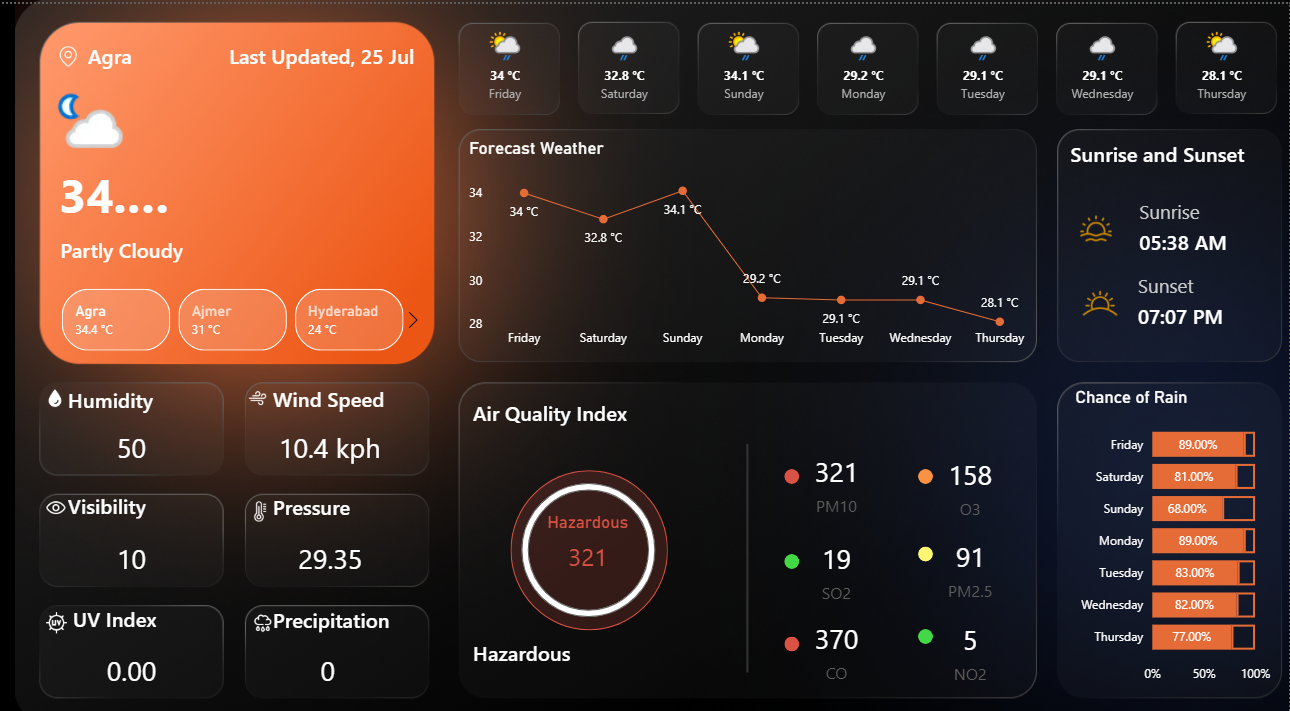

Layout of this report page (visuals, bound fields, positions):
{"tool":"powerbi","page":{"name":"Page 1","canvas":[1280,720],"ordinal":0},"visuals":[{"type":"shape","box":[511.1,460.5,155.6,158],"z":0},{"type":"lineChart","fields":{"Category":["Location.location.name"]},"box":[6.1,277.6,418.2,81.9],"z":1000},{"type":"shape","box":[65.4,150.6,134.6,74.1],"z":2000},{"type":"shape","box":[66.7,216,298.8,51.9],"z":3000},{"type":"shape","box":[93.8,25.9,211.1,50.6],"z":4000},{"type":"shape","box":[207.4,25.9,208.6,50.6],"z":5000},{"type":"image","box":[53.1,37,42,29.6],"z":6000},{"type":"cardVisual","fields":{"Data":["Min(Current.current.condition.icon)"]},"box":[34.6,66.7,112.3,95.1],"z":7000},{"type":"image","box":[33.3,481.5,58,32.1],"z":8000},{"type":"shape","box":[79,593.8,92.6,27.2],"z":9000},{"type":"shape","box":[276.5,376.5,112.3,27.2],"z":10000},{"type":"shape","box":[276.5,595.1,127.2,25.9],"z":11000},{"type":"shape","box":[74.1,377.8,86.4,27.2],"z":12000},{"type":"shape","box":[276.5,477.8,108.6,38.3],"z":13000},{"type":"shape","box":[74.1,480.2,106.2,29.6],"z":14000},{"type":"image","box":[248.1,596.3,37,30.9],"z":15000},{"type":"image","box":[39.5,595.1,45.7,32.1],"z":16000},{"type":"image","box":[237,486.4,54.3,29.6],"z":17000},{"type":"image","box":[245.7,375.3,30.9,28.4],"z":18000},{"type":"image","box":[43.2,375.3,35.8,28.4],"z":19000},{"type":"card","fields":{"Values":["Sum(Current.current.humidity)"]},"box":[85.2,419.8,103.7,39.5],"z":20000},{"type":"card","fields":{"Values":["_Measures.Wind_Speed"]},"box":[276.5,419.8,112.3,39.5],"z":21000},{"type":"card","fields":{"Values":["Sum(Current.current.vis_km)"]},"box":[85.2,528.4,103.7,40.7],"z":22000},{"type":"card","fields":{"Values":["Sum(Current.current.pressure_in)"]},"box":[281.5,528.4,103.7,40.7],"z":23000},{"type":"card","fields":{"Values":["Sum(Current.current.uv)"]},"box":[85.2,639.5,103.7,40.7],"z":24000},{"type":"card","fields":{"Values":["Sum(Current.current.precip_in)"]},"box":[279,639.5,103.7,40.7],"z":25000},{"type":"advancedSlicerVisual","fields":{"Values":["Location.location.name"]},"box":[43.2,276.5,387.7,71.6],"z":26000},{"type":"advancedSlicerVisual","fields":{"Values":["Forecast_Day.Day_Name"]},"box":[445.7,16,834.6,98.8],"z":27000},{"type":"lineChart","title":"Forecast Weather","fields":{"Y":["Sum(Forecast_Day.forecast.forecastday.day.avgtemp_c)"],"Category":["Forecast_Day.Day_Name"]},"box":[465.4,132.1,565.4,216],"z":28000},{"type":"shape","box":[1064.2,134.6,176.5,27.2],"z":29000},{"type":"shape","box":[1132.1,180.2,134.6,48.1],"z":30000},{"type":"shape","box":[1130.9,253.1,134.6,48.1],"z":31000},{"type":"shape","box":[1132.1,216,134.6,37],"z":32000},{"type":"shape","box":[1130.9,288.9,134.6,38.3],"z":33000},{"type":"image","box":[1064.2,267.9,58,55.6],"z":34000},{"type":"image","box":[1064.2,201.2,50.6,40.7],"z":35000},{"type":"hundredPercentStackedBarChart","title":"Chance of Rain","fields":{"Y":["Sum(Forecast_Day.forecast.forecastday.day.daily_chance_of_rain)","_Measures.Left_value_Rain"],"Category":["Forecast_Day.Day_Name"]},"box":[1064.2,377.8,202.5,302.5],"z":36000},{"type":"shape","box":[474.1,390.1,176.5,27.2],"z":37000},{"type":"card","fields":{"Values":["Sum(Current.current.air_quality.pm10)"]},"box":[781.5,437,103.7,72.8],"z":38000},{"type":"card","fields":{"Values":["Sum(Current.current.air_quality.o3)"]},"box":[913.6,440.7,103.7,72.8],"z":39000},{"type":"card","fields":{"Values":["Sum(Current.current.air_quality.so2)"]},"box":[781.5,523.5,103.7,72.8],"z":40000},{"type":"card","fields":{"Values":["Sum(Current.current.air_quality.pm2_5)"]},"box":[913.6,521,103.7,72.8],"z":41000},{"type":"card","fields":{"Values":["Sum(Current.current.air_quality.co)"]},"box":[781.5,602.5,103.7,72.8],"z":42000},{"type":"card","fields":{"Values":["Sum(Current.current.air_quality.no2)"]},"box":[913.6,603.7,103.7,72.8],"z":43000},{"type":"shape","box":[781.5,459.3,14.8,14.8],"z":44000},{"type":"shape","box":[781.5,624.7,14.8,14.8],"z":45000},{"type":"shape","box":[781.5,543.2,14.8,14.8],"z":46000},{"type":"shape","box":[913.6,459.3,14.8,14.8],"z":47000},{"type":"shape","box":[913.6,535.8,14.8,14.8],"z":48000},{"type":"shape","box":[913.6,617.3,14.8,14.8],"z":49000},{"type":"shape","box":[656.8,434.6,176.5,225.9],"z":50000},{"type":"card","fields":{"Values":["Sum(Current.current.air_quality.pm10)"]},"box":[535.8,501.2,103.7,72.8],"z":51000},{"type":"donutChart","fields":{"Y":["_Measures.Left_value_PM10","Sum(Current.current.air_quality.pm10)"]},"box":[484,451.9,208.6,175.3],"z":52000},{"type":"shape","box":[474.1,627.2,176.5,27.2],"z":52001}]}

Visuals, with their boxes in screenshot pixels (x1, y1, x2, y2), scaled from the page's 1280x720 canvas onto the 1290x711 screenshot:
shape: bbox=[515, 455, 672, 611]
lineChart - Location.location.name: bbox=[6, 274, 428, 355]
shape: bbox=[66, 149, 202, 222]
shape: bbox=[67, 213, 368, 265]
shape: bbox=[95, 26, 307, 76]
shape: bbox=[209, 26, 419, 76]
image: bbox=[54, 37, 96, 66]
cardVisual - Min(Current.current.condition.icon): bbox=[35, 66, 148, 160]
image: bbox=[34, 475, 92, 507]
shape: bbox=[80, 586, 173, 613]
shape: bbox=[279, 372, 392, 399]
shape: bbox=[279, 588, 407, 613]
shape: bbox=[75, 373, 162, 400]
shape: bbox=[279, 472, 388, 510]
shape: bbox=[75, 474, 182, 503]
image: bbox=[250, 589, 287, 619]
image: bbox=[40, 588, 86, 619]
image: bbox=[239, 480, 294, 510]
image: bbox=[248, 371, 279, 399]
image: bbox=[44, 371, 80, 399]
card - Sum(Current.current.humidity): bbox=[86, 415, 190, 454]
card - _Measures.Wind_Speed: bbox=[279, 415, 392, 454]
card - Sum(Current.current.vis_km): bbox=[86, 522, 190, 562]
card - Sum(Current.current.pressure_in): bbox=[284, 522, 388, 562]
card - Sum(Current.current.uv): bbox=[86, 632, 190, 672]
card - Sum(Current.current.precip_in): bbox=[281, 632, 386, 672]
advancedSlicerVisual - Location.location.name: bbox=[44, 273, 434, 344]
advancedSlicerVisual - Forecast_Day.Day_Name: bbox=[449, 16, 1289, 113]
"Forecast Weather" lineChart: bbox=[469, 130, 1039, 344]
shape: bbox=[1073, 133, 1250, 160]
shape: bbox=[1141, 178, 1277, 225]
shape: bbox=[1140, 250, 1275, 297]
shape: bbox=[1141, 213, 1277, 250]
shape: bbox=[1140, 285, 1275, 323]
image: bbox=[1073, 265, 1131, 319]
image: bbox=[1073, 199, 1124, 239]
"Chance of Rain" hundredPercentStackedBarChart: bbox=[1073, 373, 1277, 672]
shape: bbox=[478, 385, 656, 412]
card - Sum(Current.current.air_quality.pm10): bbox=[788, 432, 892, 503]
card - Sum(Current.current.air_quality.o3): bbox=[921, 435, 1025, 507]
card - Sum(Current.current.air_quality.so2): bbox=[788, 517, 892, 589]
card - Sum(Current.current.air_quality.pm2_5): bbox=[921, 514, 1025, 586]
card - Sum(Current.current.air_quality.co): bbox=[788, 595, 892, 667]
card - Sum(Current.current.air_quality.no2): bbox=[921, 596, 1025, 668]
shape: bbox=[788, 454, 803, 468]
shape: bbox=[788, 617, 803, 632]
shape: bbox=[788, 536, 803, 551]
shape: bbox=[921, 454, 936, 468]
shape: bbox=[921, 529, 936, 544]
shape: bbox=[921, 610, 936, 624]
shape: bbox=[662, 429, 840, 652]
card - Sum(Current.current.air_quality.pm10): bbox=[540, 495, 644, 567]
donutChart - _Measures.Left_value_PM10 x Sum(Current.current.air_quality.pm10): bbox=[488, 446, 698, 619]
shape: bbox=[478, 619, 656, 646]
